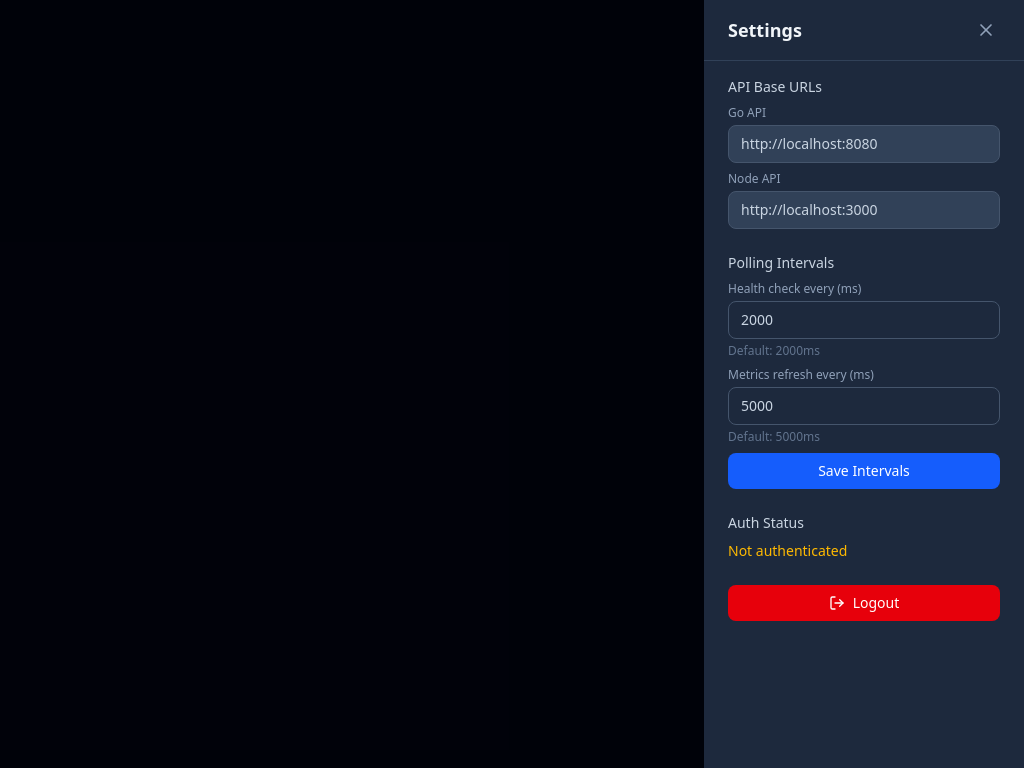
it: SettingsPanel › shows success message after saving intervals
This screenshot has width=1024, height=768.
Click the button "Save Intervals" at point(864, 471), box x1=728 y1=453 x2=1000 y2=489
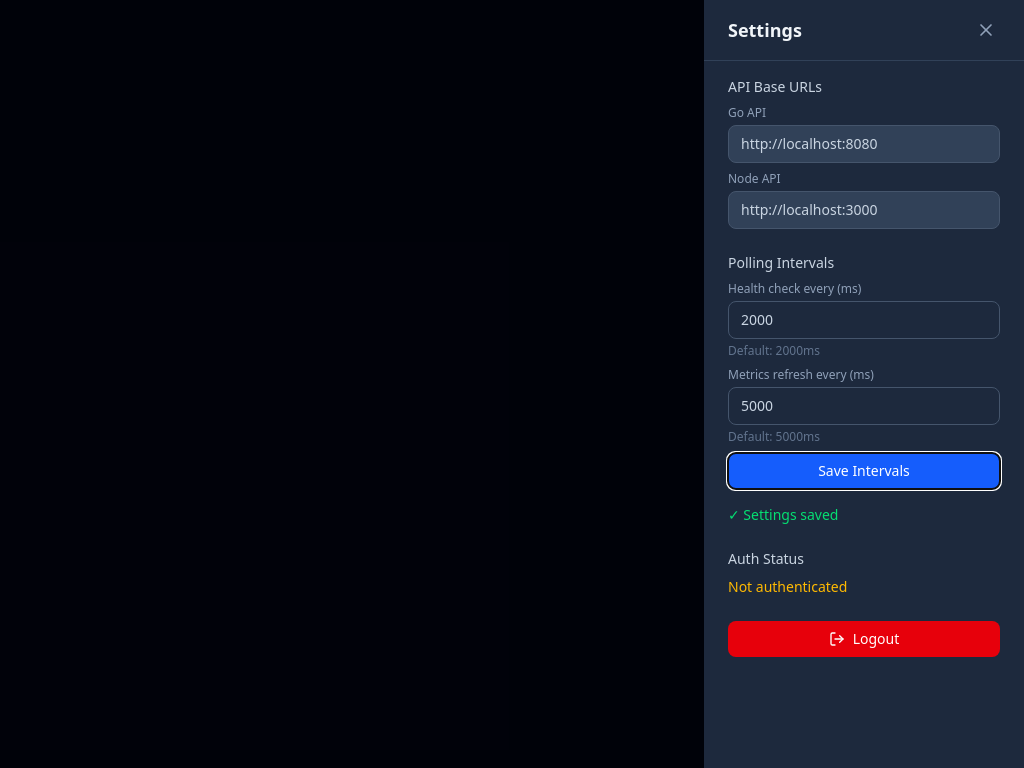
expect the text with test id "save-success" shows "Settings saved": met, box x1=728 y1=505 x2=838 y2=524
